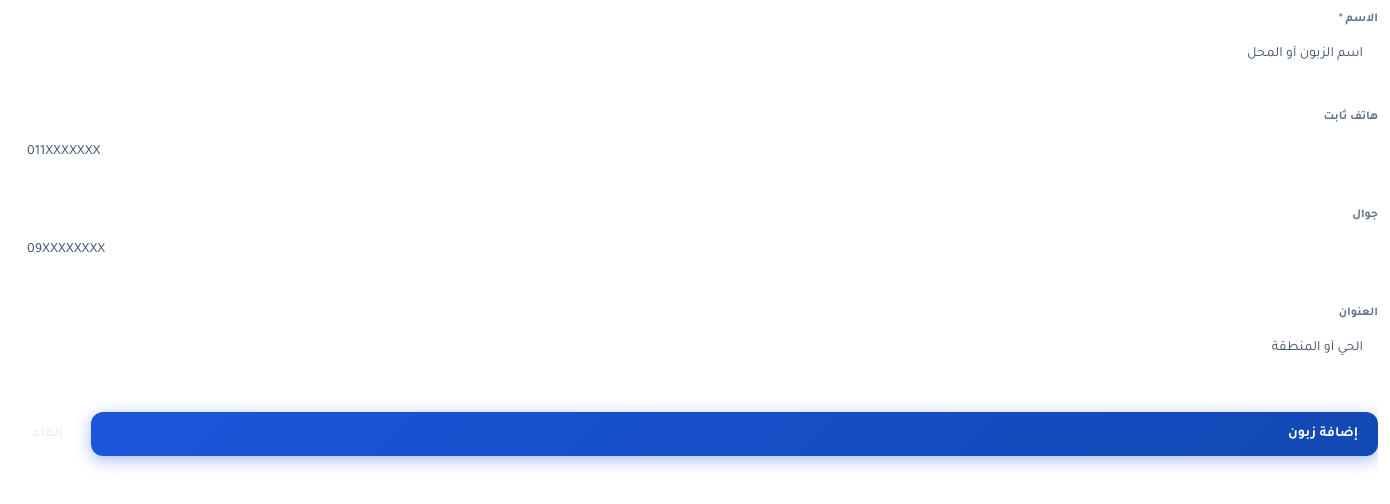
Test: CustomerForm › shows name required error when saving with empty name
The width and height of the screenshot is (1390, 504).
Click the button with test id "save-btn" at (1323, 434), box [91, 412, 1378, 456]
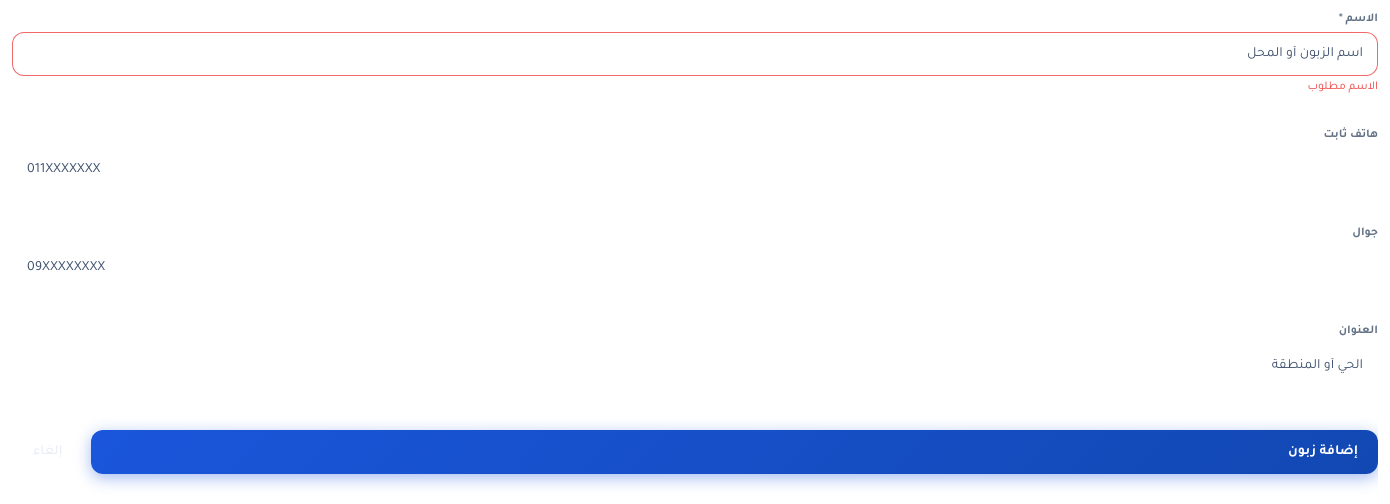
Now the text "الاسم مطلوب" is shown, box [1308, 81, 1378, 93]
